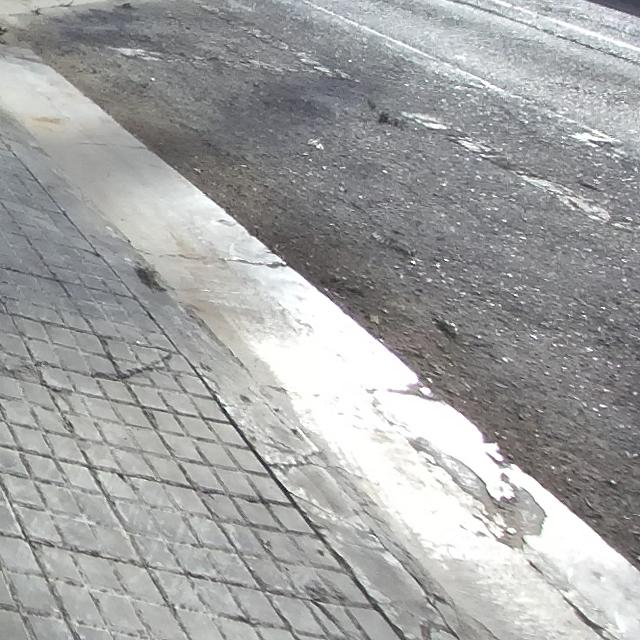calcada_quebrada: (95, 352, 172, 381), (315, 598, 348, 640)
